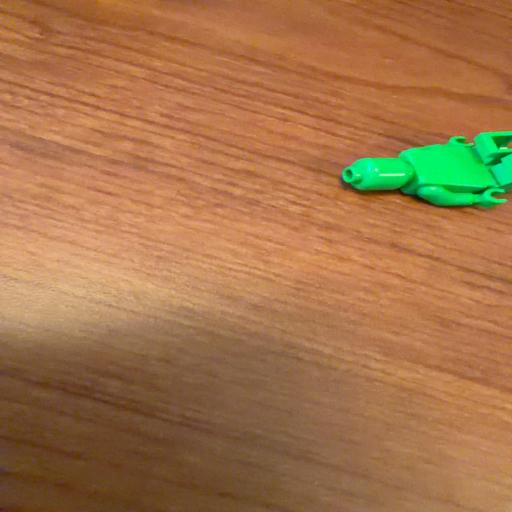UnoQ-minifig-detector: (339, 128, 512, 210)
